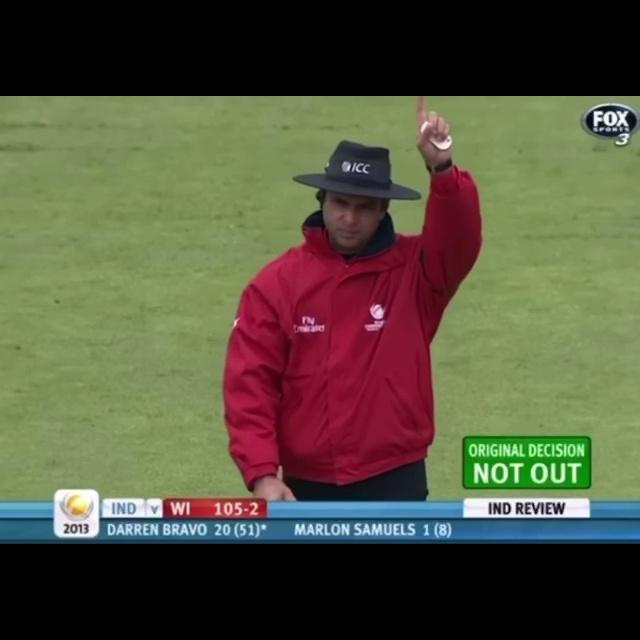umpire: (204, 97, 470, 500)
